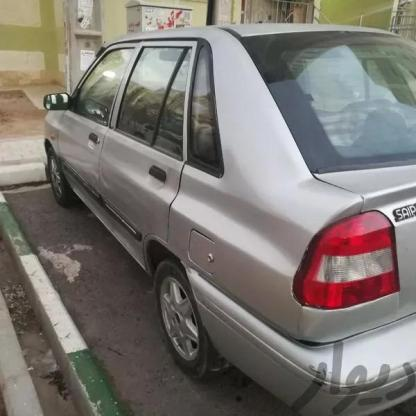Car: (0, 11, 416, 416)
